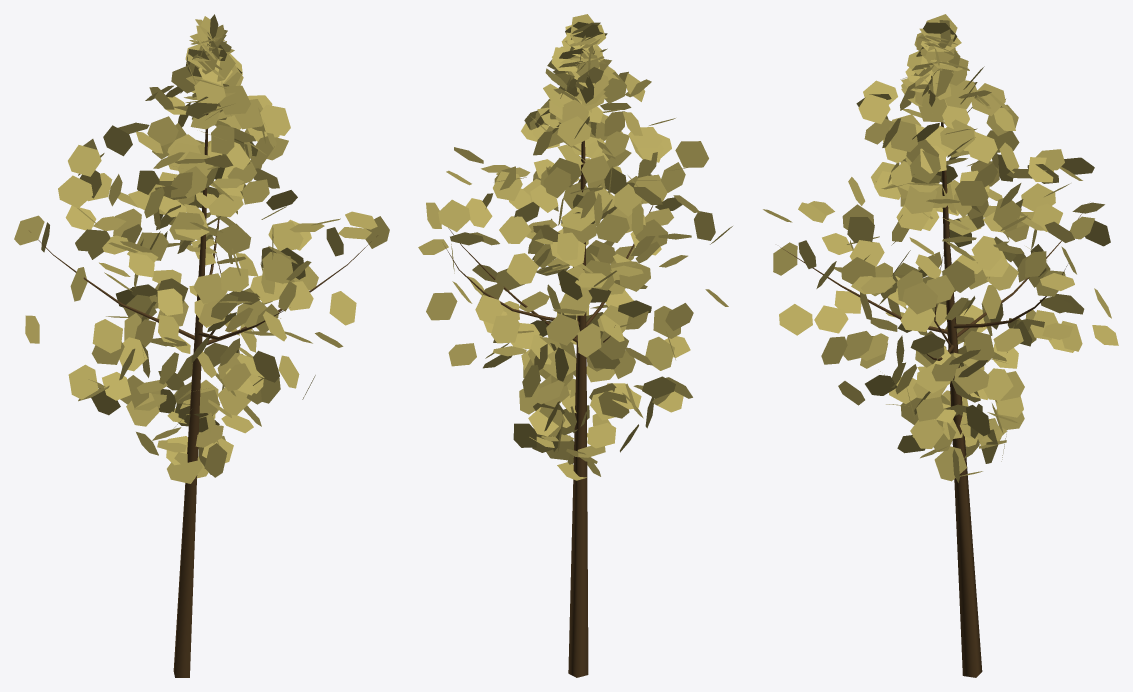
File: tree-tree-005-lod1.glb
3 renders of one model, left to right at view 1: azimuth 30°, elevation 25°; view 2: azimuth 150°, elevation 25°; view 3: azimuth 270°, elevation 25°, orthographic. The views are drawn at different scales.
Visible parts, largest first — view 1: v_tree.005; view 2: v_tree.005; view 3: v_tree.005.
Part boxes in pixels (x1,y1,x2,y2): v_tree.005: (14,14,389,677); v_tree.005: (418,14,732,677); v_tree.005: (763,14,1118,677).
Bounding box in the file's own units: 7.38 × 15.31 × 7.49.
